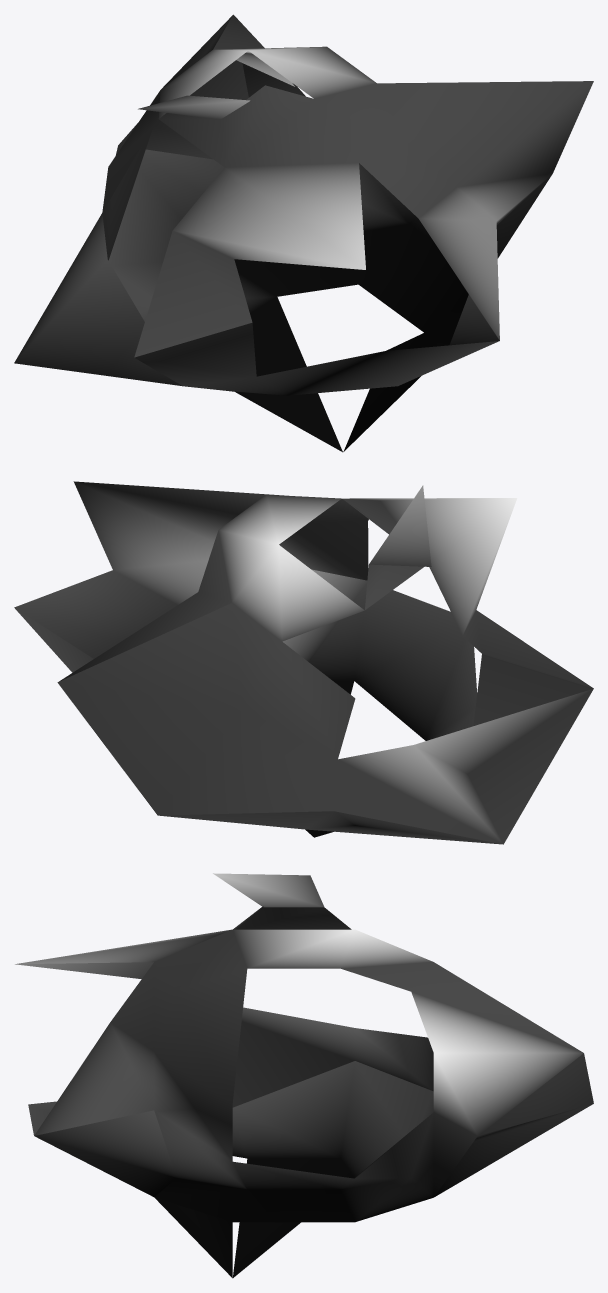
The model's file is K_GOMI03.glb.
The picture shows the model from 3 angles, top to bottom: view 1: azimuth 30°, elevation 25°; view 2: azimuth 150°, elevation 25°; view 3: azimuth 270°, elevation 25°; orthographic projection. The views are drawn at different scales.
Parts seen in each view (by area): view 1: FRAME_ROOT; view 2: FRAME_ROOT; view 3: FRAME_ROOT.
Part boxes in pixels (box(x1,y1,x2,y2)): FRAME_ROOT: box(14, 14, 593, 452); FRAME_ROOT: box(14, 481, 593, 844); FRAME_ROOT: box(15, 873, 593, 1278).
Size of the model in its own units: 3.8 by 2.72 by 3.99.
Materials: 1 (1 with a texture image).
